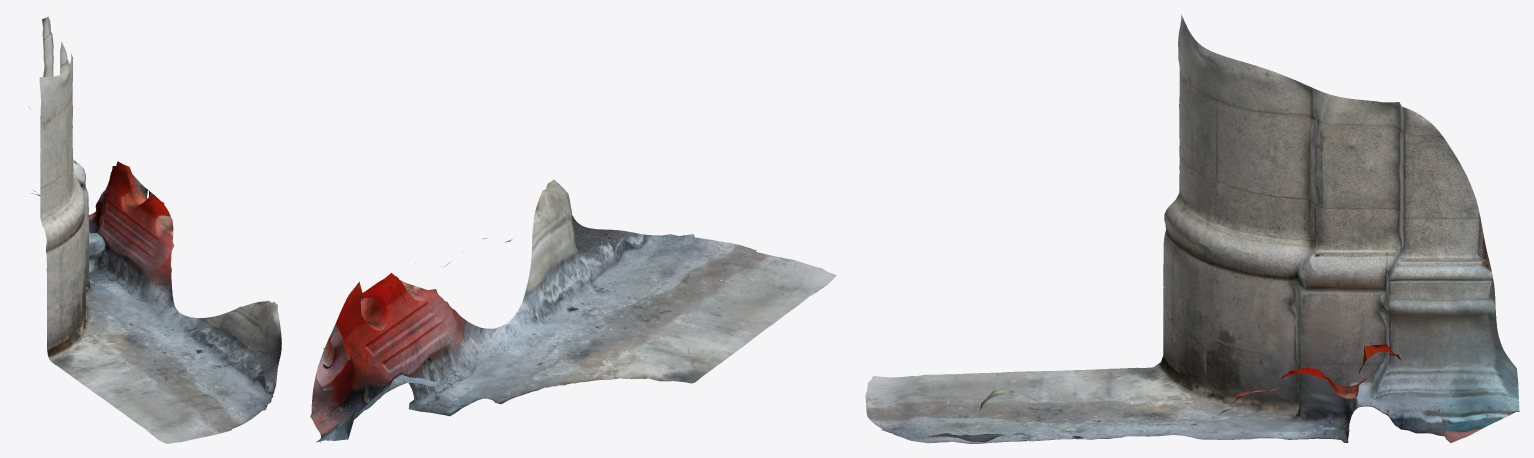
3 renders of one model, left to right at view 1: azimuth 30°, elevation 25°; view 2: azimuth 150°, elevation 25°; view 3: azimuth 270°, elevation 25°, orthographic. The views are drawn at different scales.
Visible parts, largest first — view 1: 16 NW; view 2: 16 NW; view 3: 16 NW.
Boxes of the visible parts, x1,y1,x2,y2 form: 16 NW: (29, 16, 281, 443); 16 NW: (310, 179, 836, 442); 16 NW: (865, 14, 1519, 443).
Bounding box in the file's own units: 1.7 × 2.62 × 4.32.
Materials: 1 (1 with a texture image).
